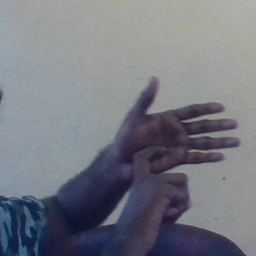R: (96, 65, 248, 234)
